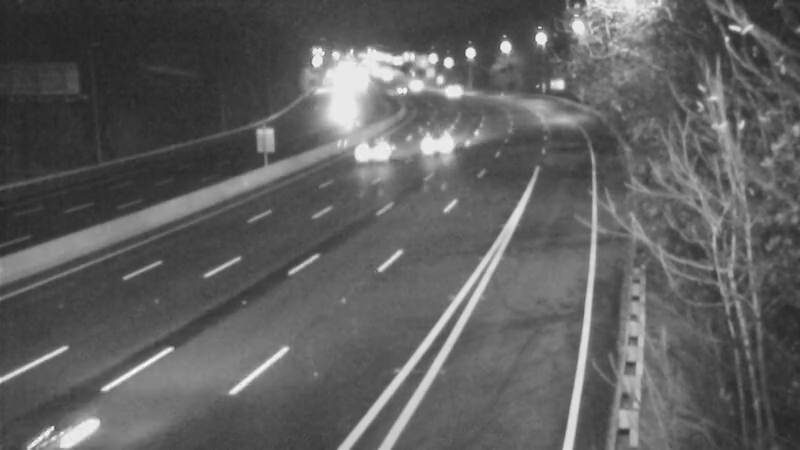vehicle: (3, 357, 113, 450), (378, 66, 428, 116), (423, 70, 473, 120), (416, 115, 466, 165), (364, 116, 414, 166), (316, 86, 366, 136)
